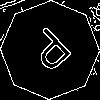P: (25, 25, 81, 81)
